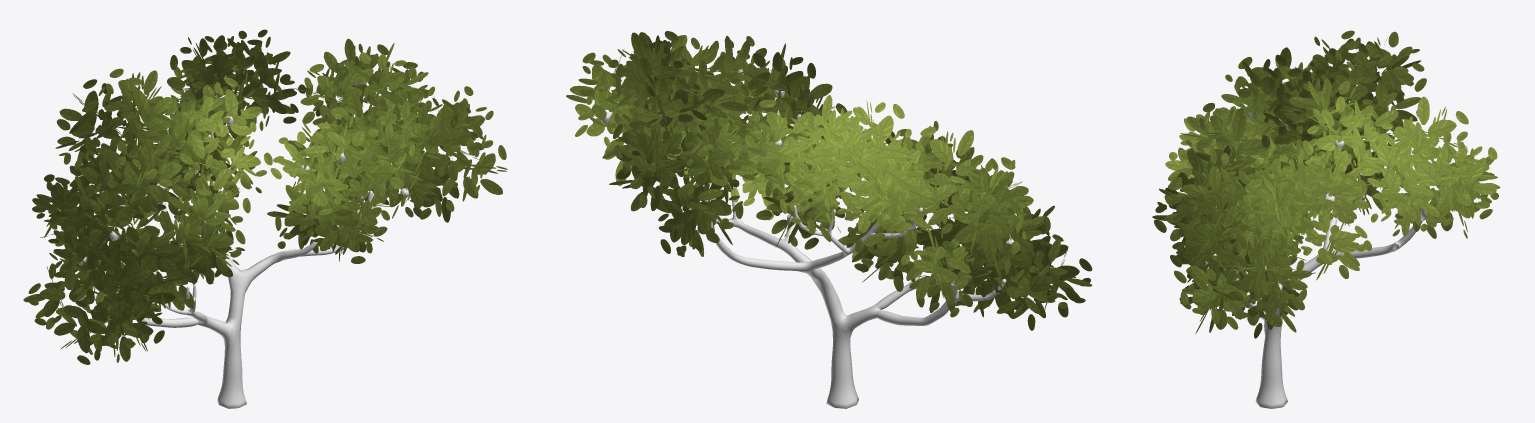
Rendered from arvore_9.fbx.
The picture shows the model from 3 angles, left to right: view 1: azimuth 30°, elevation 25°; view 2: azimuth 150°, elevation 25°; view 3: azimuth 270°, elevation 25°; orthographic projection. The views are drawn at different scales.
Parts seen in each view (by area): view 1: copa_9, tronco_9; view 2: copa_9, tronco_9; view 3: copa_9, tronco_9.
Part boxes in pixels (x1,y1,x2,y2): copa_9: [23, 29, 507, 364]; tronco_9: [72, 113, 375, 408]; copa_9: [566, 31, 1092, 330]; tronco_9: [689, 177, 1006, 408]; copa_9: [1152, 30, 1500, 338]; tronco_9: [1215, 167, 1426, 408].
Bounding box in the file's own units: 5718 × 3797 × 3709.
